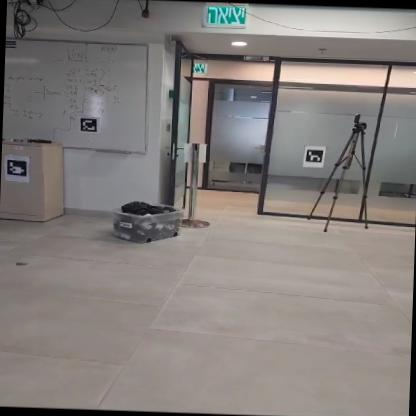open: (146, 60, 298, 220)
